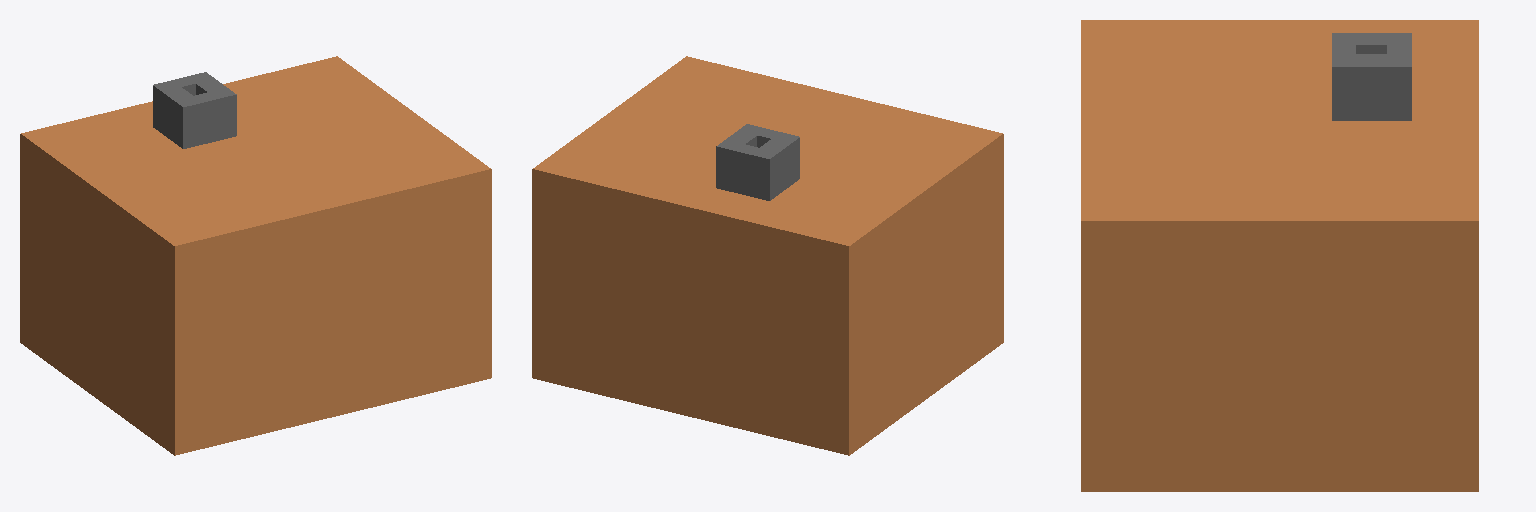
The robot description file, URDF, robot "peg_in_hole_tolerances_scenes_scene_0097_tol05":
<?xml version="1.0"?>
<robot name="peg_in_hole_tolerances_scenes_scene_0097_tol05">
  <material name="wood"><color rgba="0.82 0.56 0.35 1.0"/></material>
  <material name="hole_grey"><color rgba="0.4706 0.4706 0.4706 1.0"/></material>
  <link name="box">
    <visual>
      <origin xyz="0.000000 0.000000 0.000000" rpy="0 0 0"/>
      <geometry><box size="0.475000 0.400000 0.300000"/></geometry>
      <material name="wood"/>
    </visual>
    <collision>
      <origin xyz="0.000000 0.000000 0.000000" rpy="0 0 0"/>
      <geometry><box size="0.475000 0.400000 0.300000"/></geometry>
    </collision>
    <visual>
      <origin xyz="-0.038772 0.092079 0.155000" rpy="0 0 0"/>
      <geometry><box size="0.080000 0.080000 0.010000"/></geometry>
      <material name="hole_grey"/>
    </visual>
    <collision>
      <origin xyz="-0.038772 0.092079 0.155000" rpy="0 0 0"/>
      <geometry><box size="0.080000 0.080000 0.010000"/></geometry>
    </collision>
    <visual>
      <origin xyz="-0.013418 0.092079 0.185000" rpy="0 0 0"/>
      <geometry><box size="0.029293 0.080000 0.050000"/></geometry>
      <material name="hole_grey"/>
    </visual>
    <collision>
      <origin xyz="-0.013418 0.092079 0.185000" rpy="0 0 0"/>
      <geometry><box size="0.029293 0.080000 0.050000"/></geometry>
    </collision>
    <visual>
      <origin xyz="-0.064126 0.092079 0.185000" rpy="0 0 0"/>
      <geometry><box size="0.029293 0.080000 0.050000"/></geometry>
      <material name="hole_grey"/>
    </visual>
    <collision>
      <origin xyz="-0.064126 0.092079 0.185000" rpy="0 0 0"/>
      <geometry><box size="0.029293 0.080000 0.050000"/></geometry>
    </collision>
    <visual>
      <origin xyz="-0.038772 0.119932 0.185000" rpy="0 0 0"/>
      <geometry><box size="0.021414 0.024293 0.050000"/></geometry>
      <material name="hole_grey"/>
    </visual>
    <collision>
      <origin xyz="-0.038772 0.119932 0.185000" rpy="0 0 0"/>
      <geometry><box size="0.021414 0.024293 0.050000"/></geometry>
    </collision>
    <visual>
      <origin xyz="-0.038772 0.064225 0.185000" rpy="0 0 0"/>
      <geometry><box size="0.021414 0.024293 0.050000"/></geometry>
      <material name="hole_grey"/>
    </visual>
    <collision>
      <origin xyz="-0.038772 0.064225 0.185000" rpy="0 0 0"/>
      <geometry><box size="0.021414 0.024293 0.050000"/></geometry>
    </collision>
    <inertial>
      <mass value="500"/>
      <friction value="1.0"/>
      <inertia ixx="1000.0" ixy="0.0" ixz="0.0" iyy="1000.0" iyz="0.0" izz="1000.0"/>
    </inertial>
  </link>
</robot>

--- Facts derived from the render (not from the file) ---
Views: 3 orthographic renders of the robot side by side, from view 1: azimuth 30°, elevation 25°; view 2: azimuth 150°, elevation 25°; view 3: azimuth 270°, elevation 25°.
Model peg_in_hole_tolerances_scenes_scene_0097_tol05 with 1 links and 0 joints (none), rooted at box, posed every joint at zero.
Links seen in each view (by area): view 1: box; view 2: box; view 3: box.
Link boxes in pixels (left/top/right/bottom): box: left=20, top=56, right=491, bottom=455; box: left=532, top=56, right=1003, bottom=455; box: left=1081, top=20, right=1478, bottom=491.
Size in the robot's own frame: 0.475 by 0.4 by 0.36 metres.
Geometry: primitives only (box / cylinder / sphere), no mesh files.
